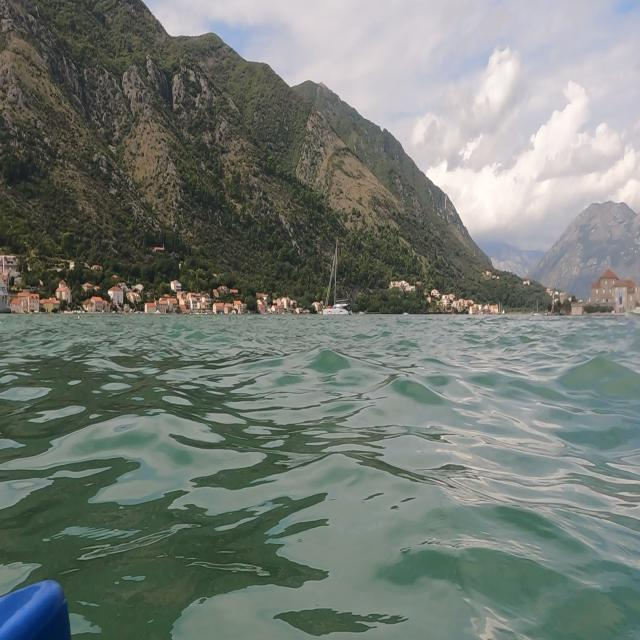boat: (318, 235, 352, 318)
